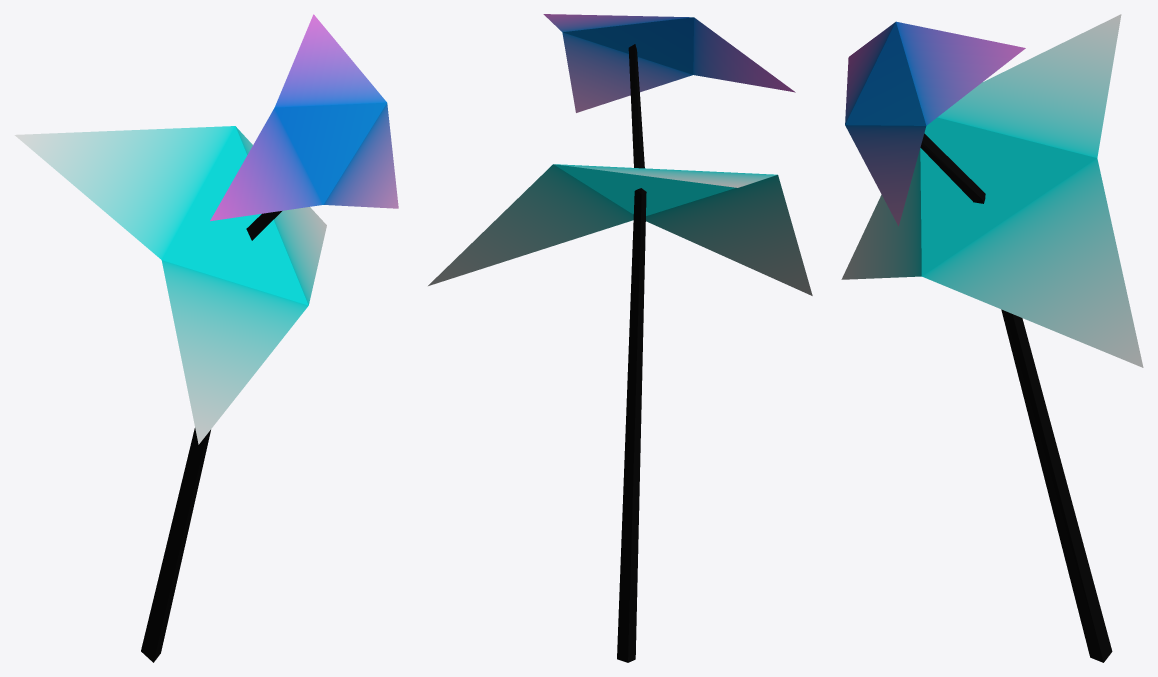
Rendered from trillium_ovatum_lp_c.dae.
3 views of the same model, side by side, from view 1: azimuth 30°, elevation 25°; view 2: azimuth 150°, elevation 25°; view 3: azimuth 270°, elevation 25° (orthographic). The views are drawn at different scales.
Parts seen in each view (by area): view 1: trillium8; view 2: trillium8; view 3: trillium8.
Part boxes in pixels (left/top/right/bottom): trillium8: left=14, top=14, right=398, bottom=662; trillium8: left=428, top=14, right=812, bottom=662; trillium8: left=841, top=14, right=1143, bottom=662.
Bounding box in the file's own units: 0.1971 × 0.1509 × 0.3726.
